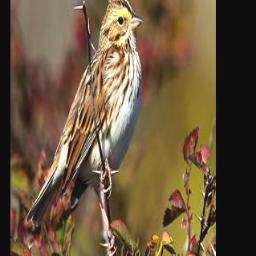Sparrow: (25, 0, 143, 230)
